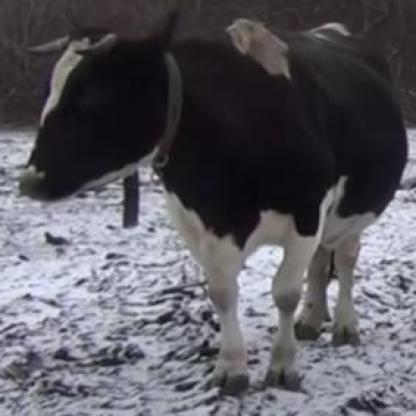cow: (21, 28, 408, 394)
